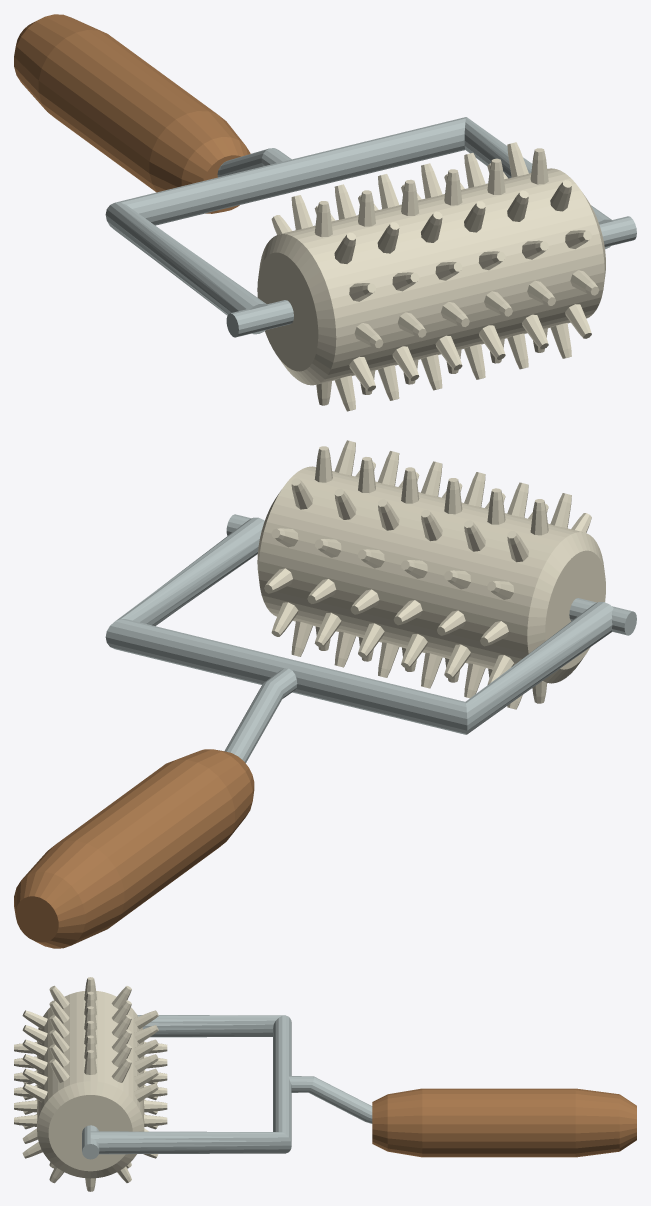
3 views of the same model, one above another, from view 1: azimuth 30°, elevation 25°; view 2: azimuth 150°, elevation 25°; view 3: azimuth 270°, elevation 25° (orthographic). The views are drawn at different scales.
Visible parts, largest first — view 1: WholeBroadBevelEndedRoller, WholeLongContouredGrip, Whole72CompleteBluntRollerStuds, WholeContinuousTwoSidedFork, WholeCompleteTransverseAxle, WholeDownBentGripNeck; view 2: WholeBroadBevelEndedRoller, WholeLongContouredGrip, WholeContinuousTwoSidedFork, Whole72CompleteBluntRollerStuds, WholeDownBentGripNeck, WholeCompleteTransverseAxle; view 3: WholeLongContouredGrip, WholeBroadBevelEndedRoller, Whole72CompleteBluntRollerStuds, WholeContinuousTwoSidedFork, WholeDownBentGripNeck, WholeCompleteTransverseAxle.
Boxes of the visible parts, box(x1,y1,x2,y2) form: WholeBroadBevelEndedRoller: box(257, 168, 605, 385); WholeLongContouredGrip: box(14, 14, 250, 213); Whole72CompleteBluntRollerStuds: box(271, 142, 599, 411); WholeContinuousTwoSidedFork: box(105, 117, 613, 334); WholeCompleteTransverseAxle: box(226, 216, 636, 337); WholeDownBentGripNeck: box(217, 148, 291, 177); WholeBroadBevelEndedRoller: box(257, 466, 605, 683); WholeLongContouredGrip: box(14, 749, 254, 948); WholeContinuousTwoSidedFork: box(105, 517, 613, 734); Whole72CompleteBluntRollerStuds: box(264, 440, 591, 709); WholeDownBentGripNeck: box(224, 668, 297, 762); WholeCompleteTransverseAxle: box(226, 514, 636, 635); WholeLongContouredGrip: box(372, 1088, 636, 1157); WholeBroadBevelEndedRoller: box(37, 991, 144, 1178); Whole72CompleteBluntRollerStuds: box(14, 977, 167, 1191); WholeContinuousTwoSidedFork: box(90, 1015, 291, 1154); WholeDownBentGripNeck: box(289, 1076, 372, 1123); WholeCompleteTransverseAxle: box(82, 1125, 99, 1159).
Size of the model in its own units: 0.166 by 0.08 by 0.325.
